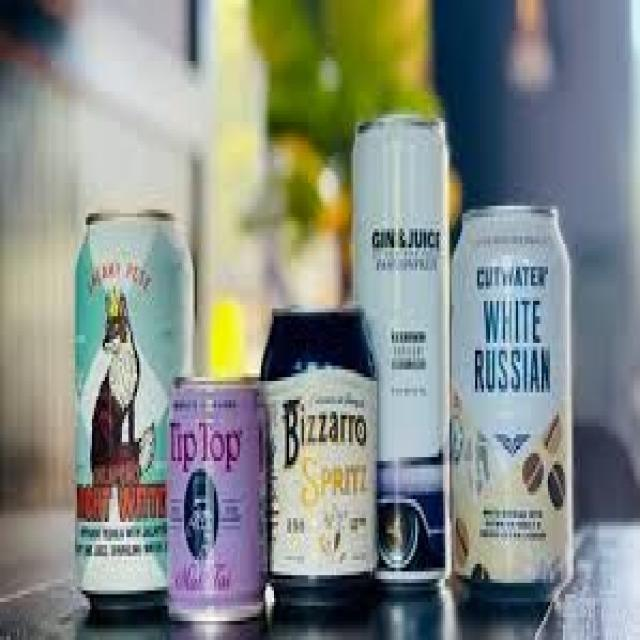Cans: (445, 190, 580, 606), (66, 186, 190, 610), (351, 107, 458, 594), (255, 297, 383, 610), (160, 366, 272, 628)
